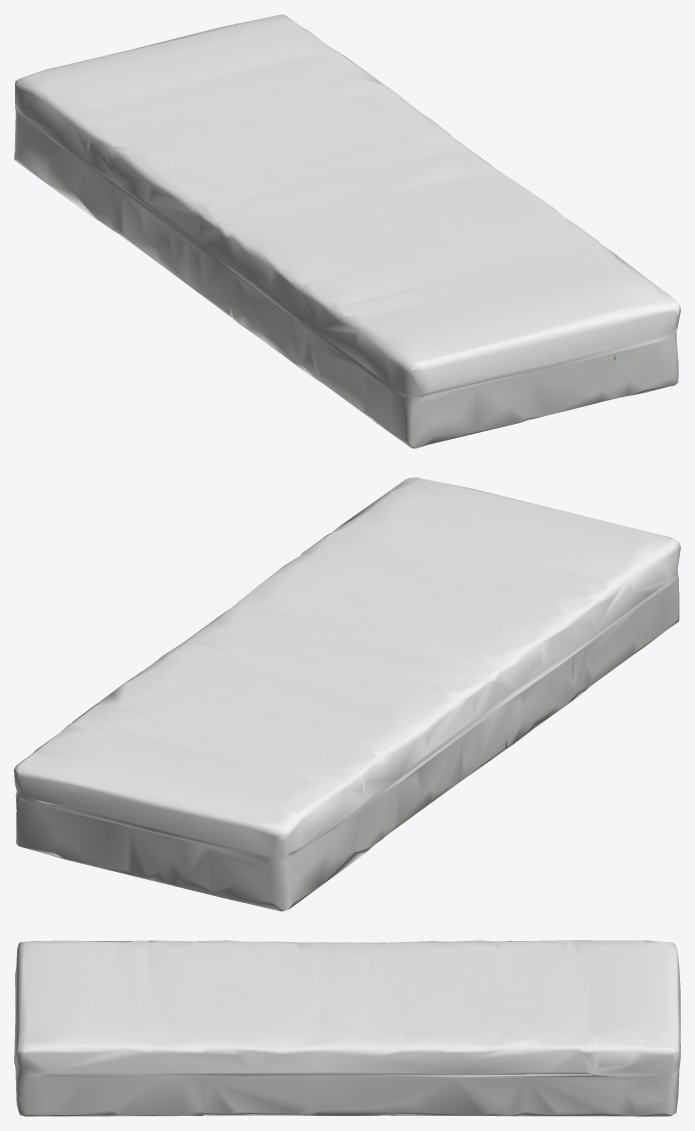
Rendered from Anneland70481722.glb.
The picture shows the model from 3 angles, top to bottom: view 1: azimuth 30°, elevation 25°; view 2: azimuth 150°, elevation 25°; view 3: azimuth 270°, elevation 25°; orthographic projection. The views are drawn at different scales.
Parts seen in each view (by area): view 1: model; view 2: model; view 3: model.
Boxes of the visible parts, left/top/right/bottom form: model: left=14, top=14, right=680, bottom=448; model: left=14, top=477, right=680, bottom=911; model: left=14, top=940, right=680, bottom=1116.
Size of the model in its own units: 0.8028 by 0.2451 by 2.01.
1 material, 1 textured.
